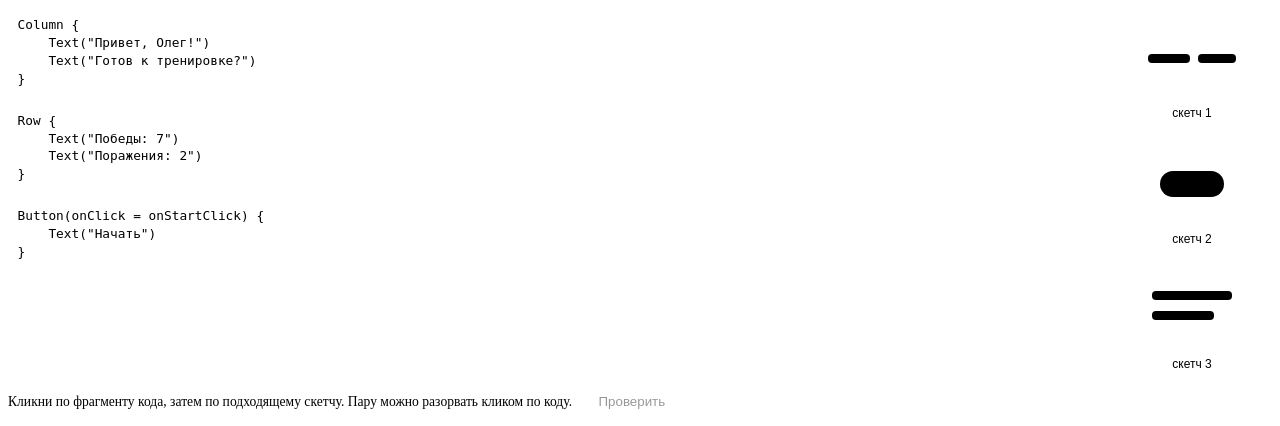
Test: clicking a matched code breaks the pair
Click the button "Column { Text(\"Привет, Олег!\") Text(\"Готов к тренировке?\") }".
click(48, 24)  # box [8, 8, 1096, 96]
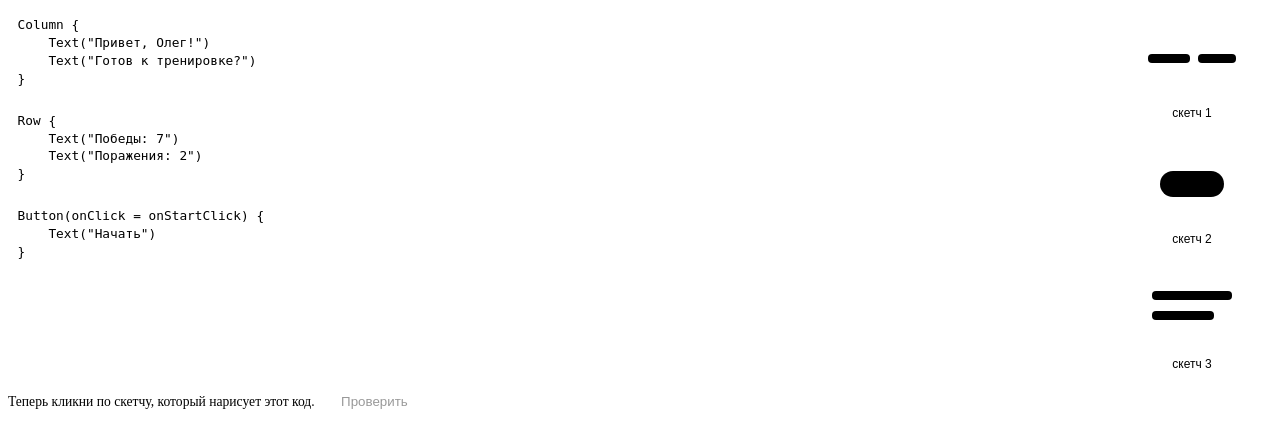
Click the button labelled "скетч 3".
click(1192, 318)  # box [1112, 259, 1272, 377]
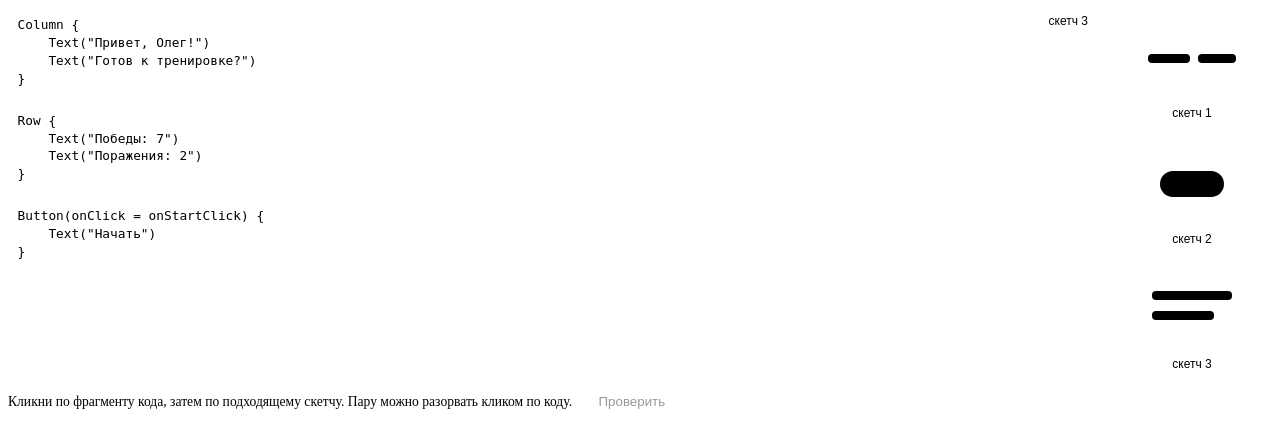
Result: the text with class "csm-badge" is shown at [1049, 14, 1088, 28]
Click the text "Column { Text(\"Привет, Олег!\") Text(\"Готов к тренировке?\") }".
click(137, 51)  # box [18, 17, 256, 86]
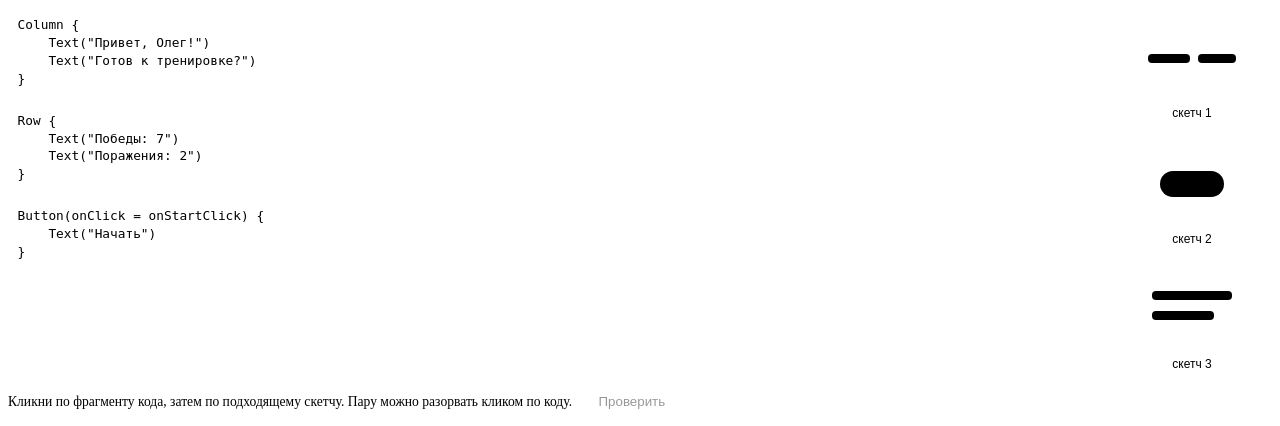
Result: the text with class "csm-badge" is gone
